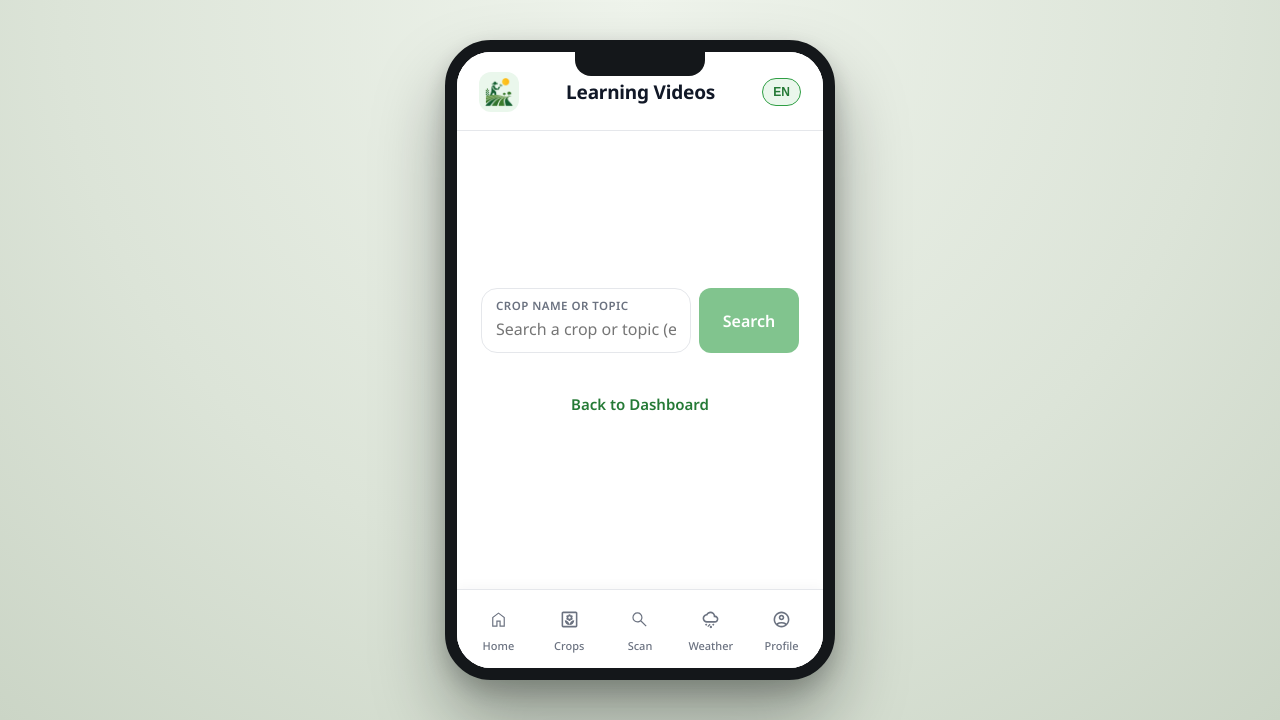
Test: VideosPage › shows the server's graceful fallback message when videos are unavailable
The image size is (1280, 720).
Type "cocoa" into the field with placeholder "Search a crop or topic (e.g. Arecanut bud rot)". click: coordinates (586, 329)
box: [496,316,676,342]
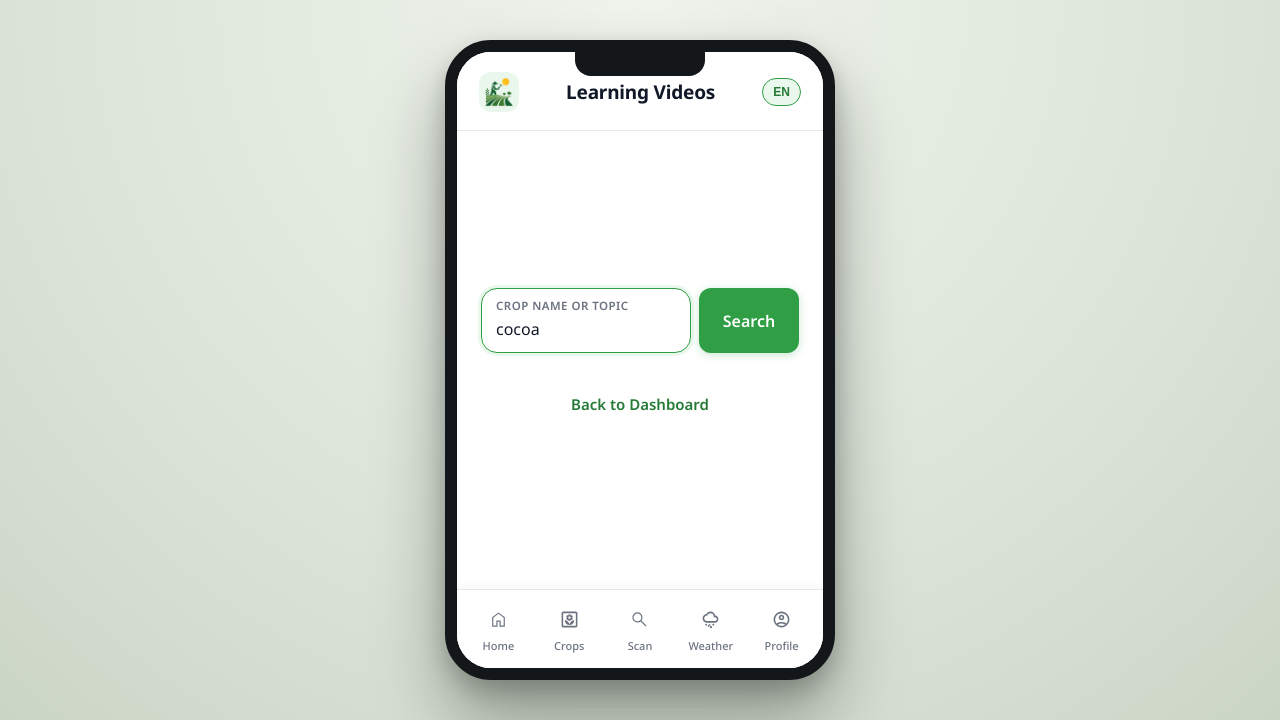
Click the button "Search". click: coordinates (749, 321)
box: [699,288,799,353]
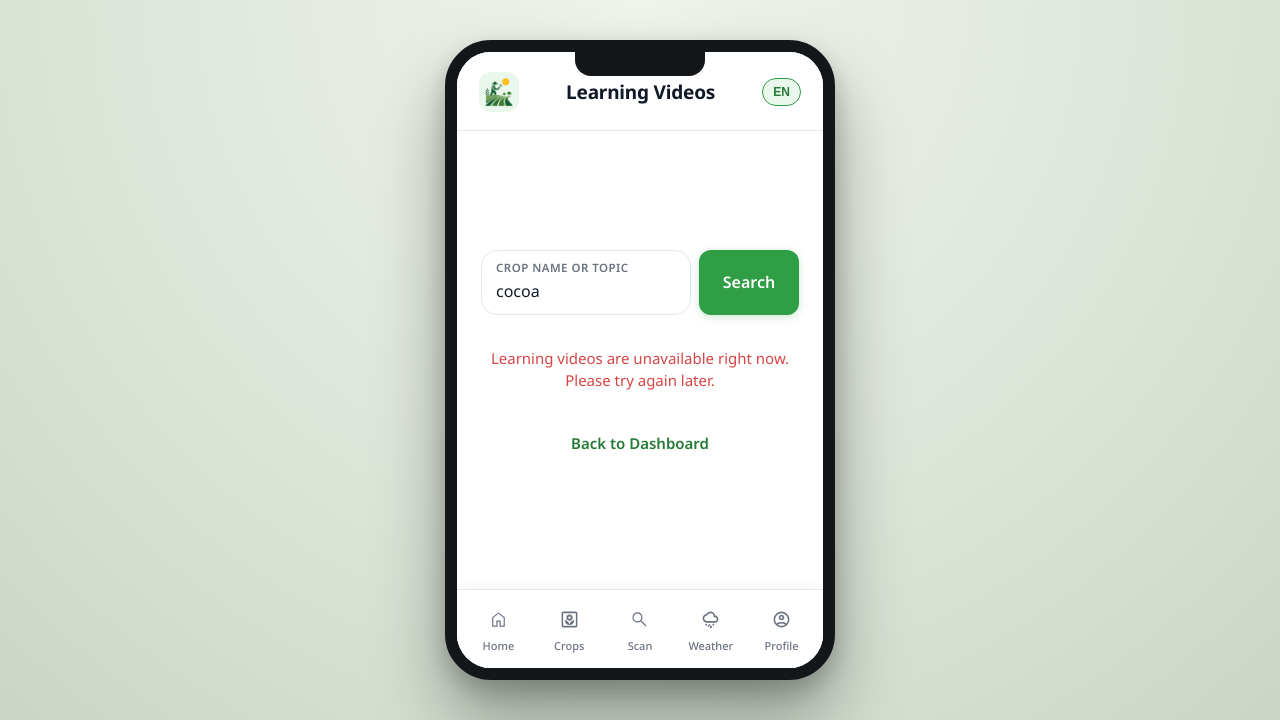
Now the message shows "Learning videos are unavailable", box [491,348,789,390]
